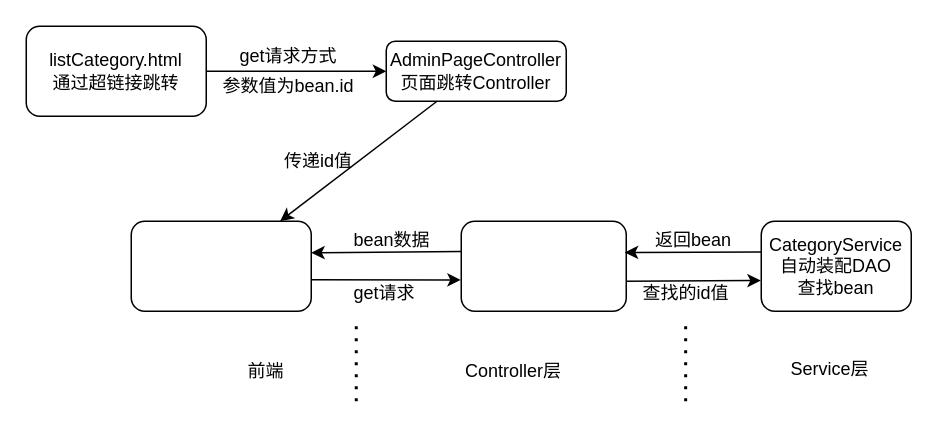
Image size: 938x431. Some labels were removed from this diagram. Each missing label, with the centre of its shape:
"CategoryController" belongs at pixel 543 265.
"editCategory.html 将url格式转换为 RESTFUL风格" belongs at pixel 220 265.
